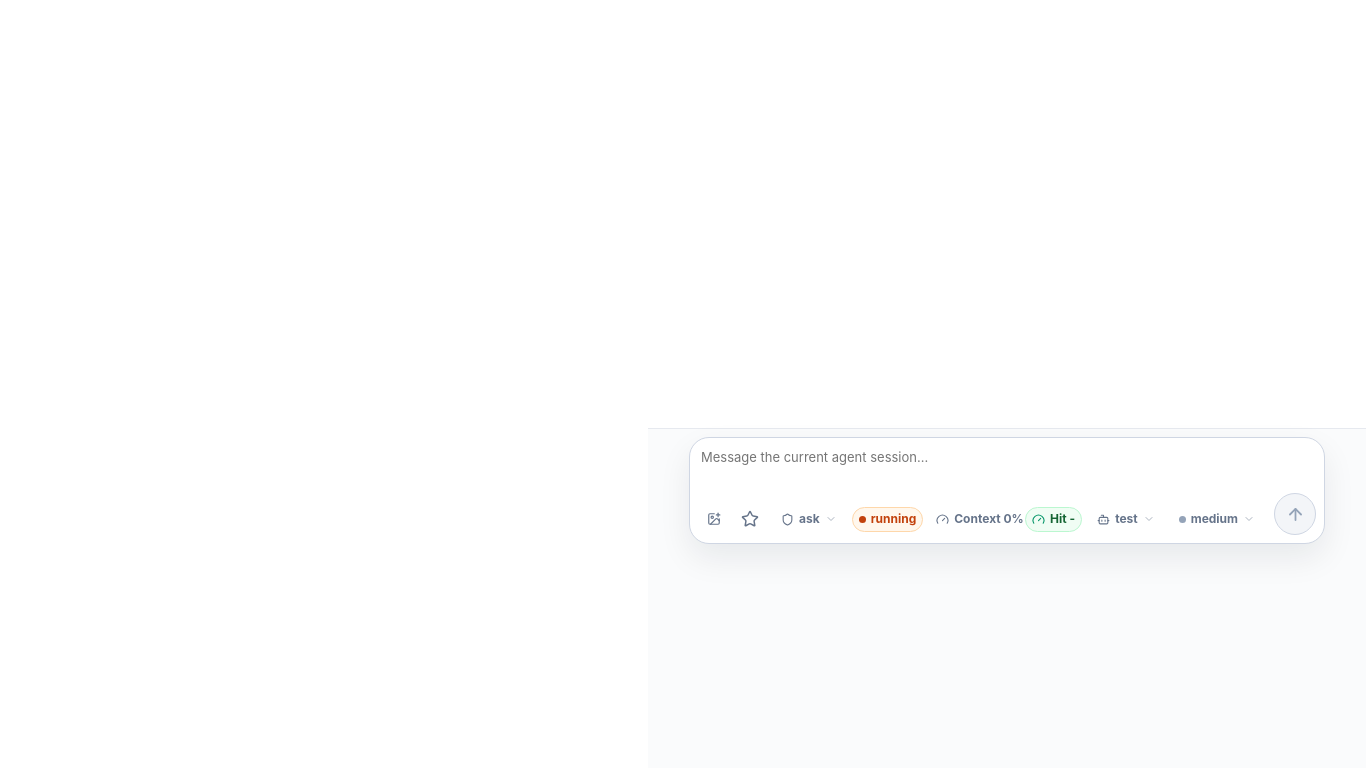
it: legacy Composer common prompts › allows preparing the next draft while a run is active
The width and height of the screenshot is (1366, 768).
Click the button named "Common prompts" at (750,519), box x1=734 y1=503 x2=766 y2=535
Wait 200 ms
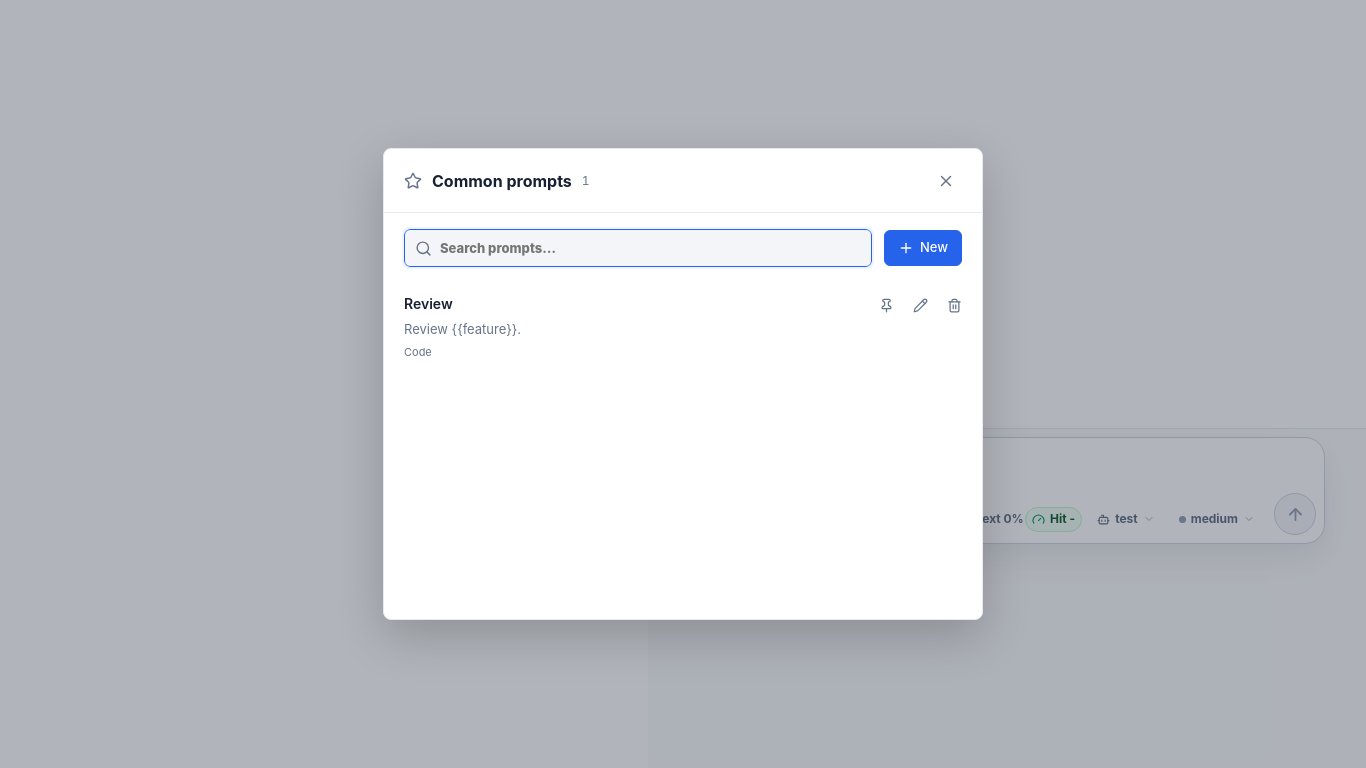
Now the button with aria-label "Use Review" is shown, box x1=396 y1=283 x2=862 y2=371
